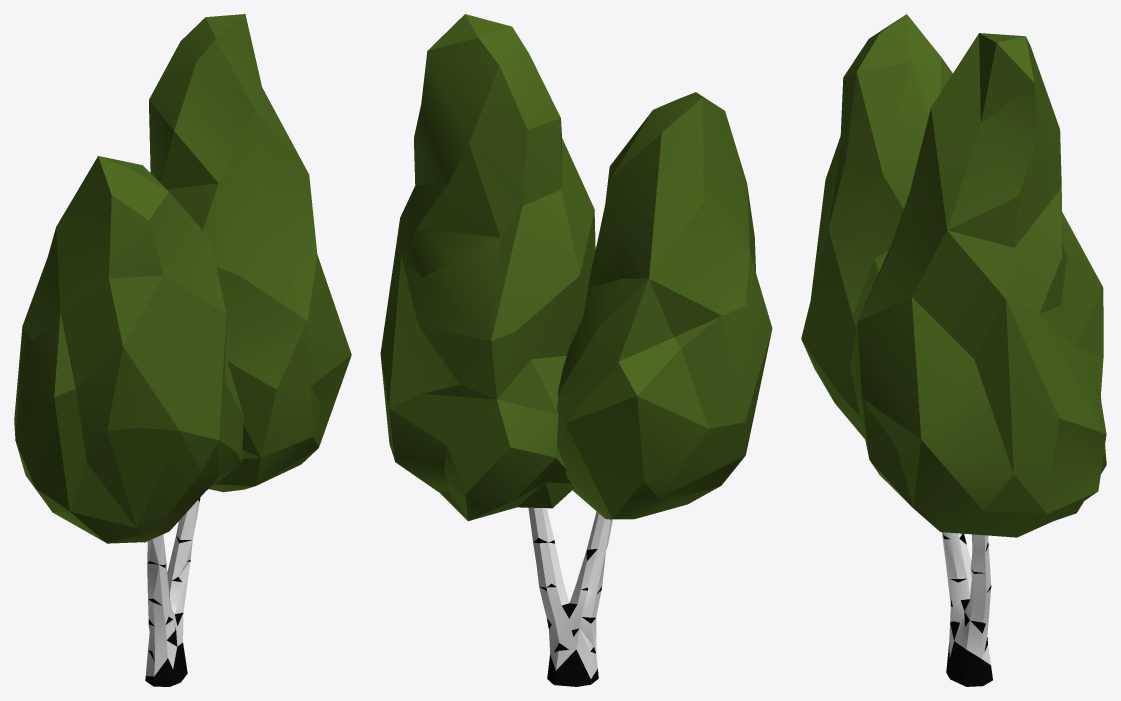
The model's file is BirchC.fbx.
3 views of the same model, side by side, from view 1: azimuth 30°, elevation 25°; view 2: azimuth 150°, elevation 25°; view 3: azimuth 270°, elevation 25° (orthographic). The views are drawn at different scales.
Visible parts, largest first — view 1: BirchC; view 2: BirchC; view 3: BirchC.
Boxes of the visible parts, x1=… form: BirchC: x1=14, y1=14, x2=351, y2=686; BirchC: x1=380, y1=14, x2=772, y2=686; BirchC: x1=801, y1=14, x2=1106, y2=686.
Size of the model in its own units: 865 by 1619 by 658.
